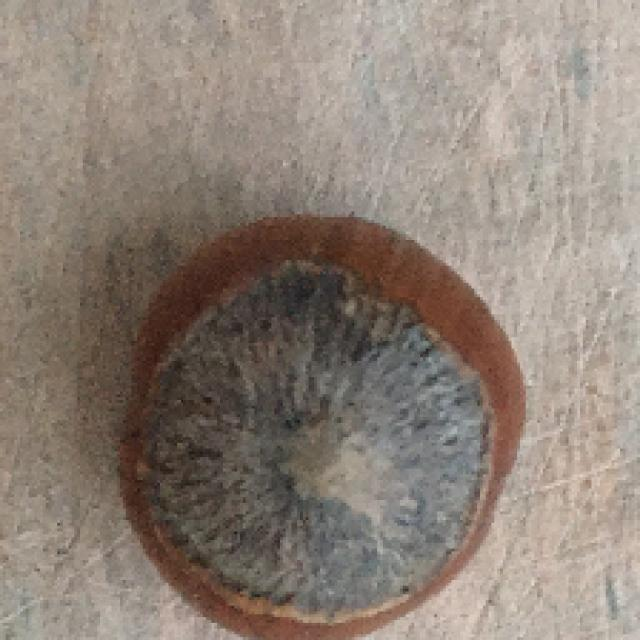qualityHazelnut: (120, 202, 526, 640)
